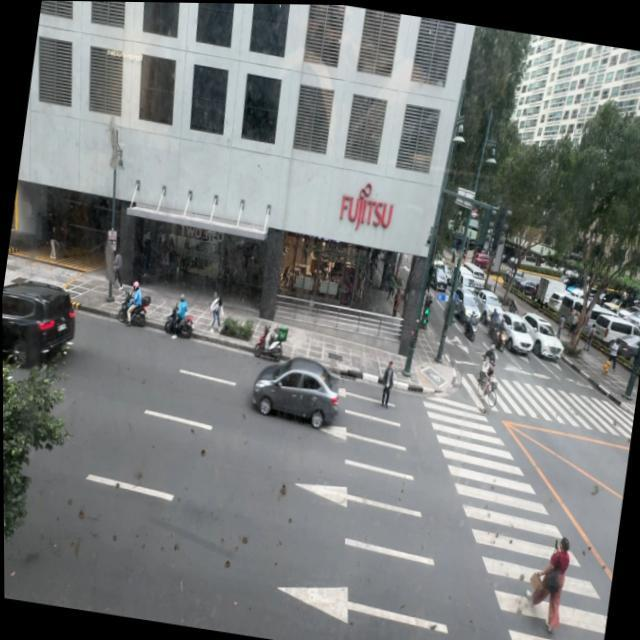jaywalking: (374, 356, 399, 414)
